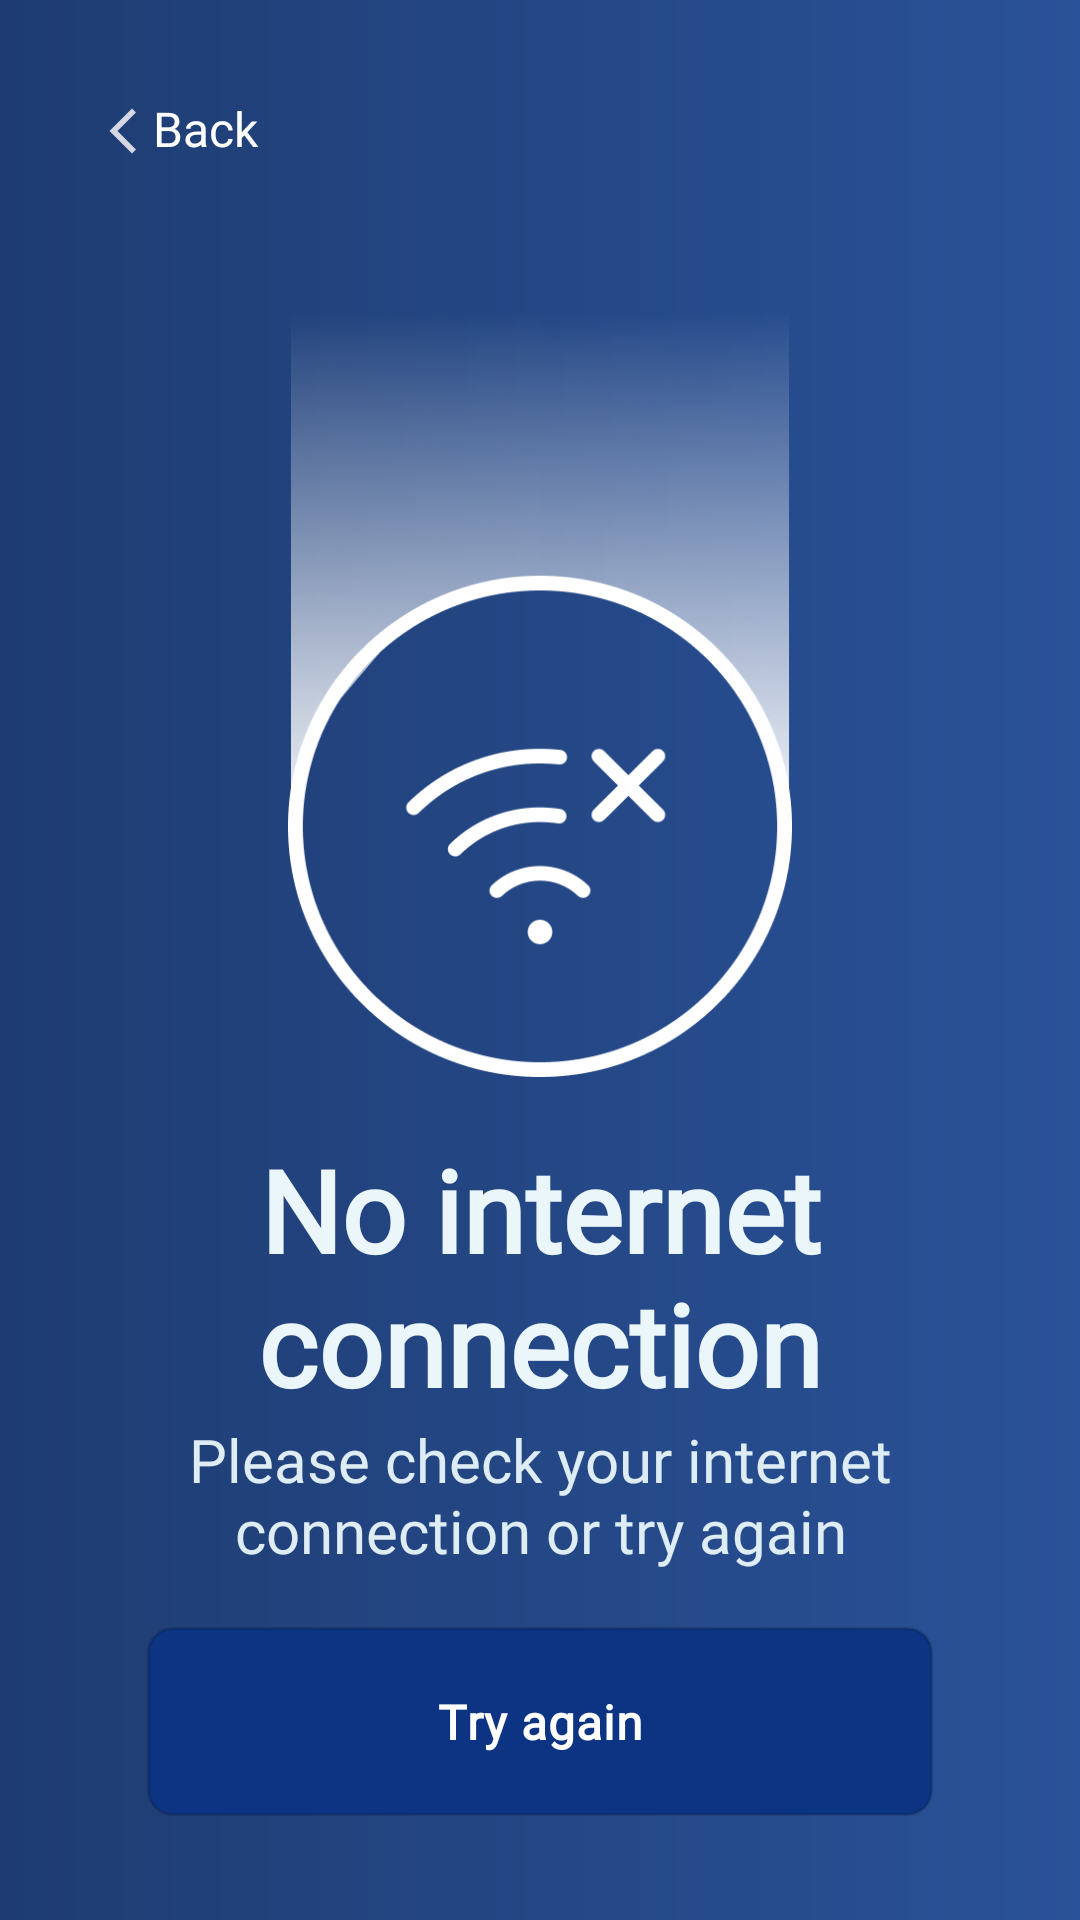

Named icons in this screenshot (1080 x 1920) and their centers, (x=x, y=y):
arrow left: (x=123, y=131)
